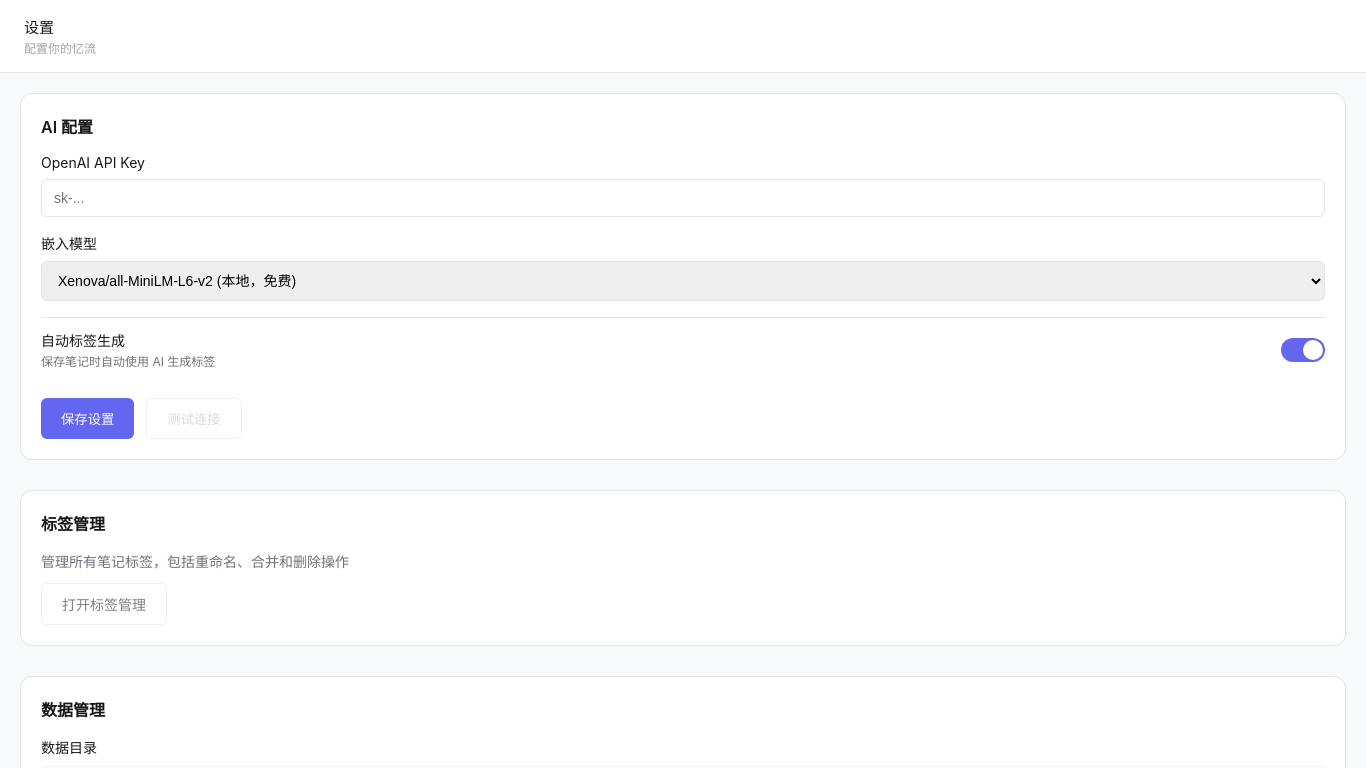
Test: Settings Component › should show saved state after successful save
Click the button "保存设置" at (88, 418), box [41, 398, 134, 439]
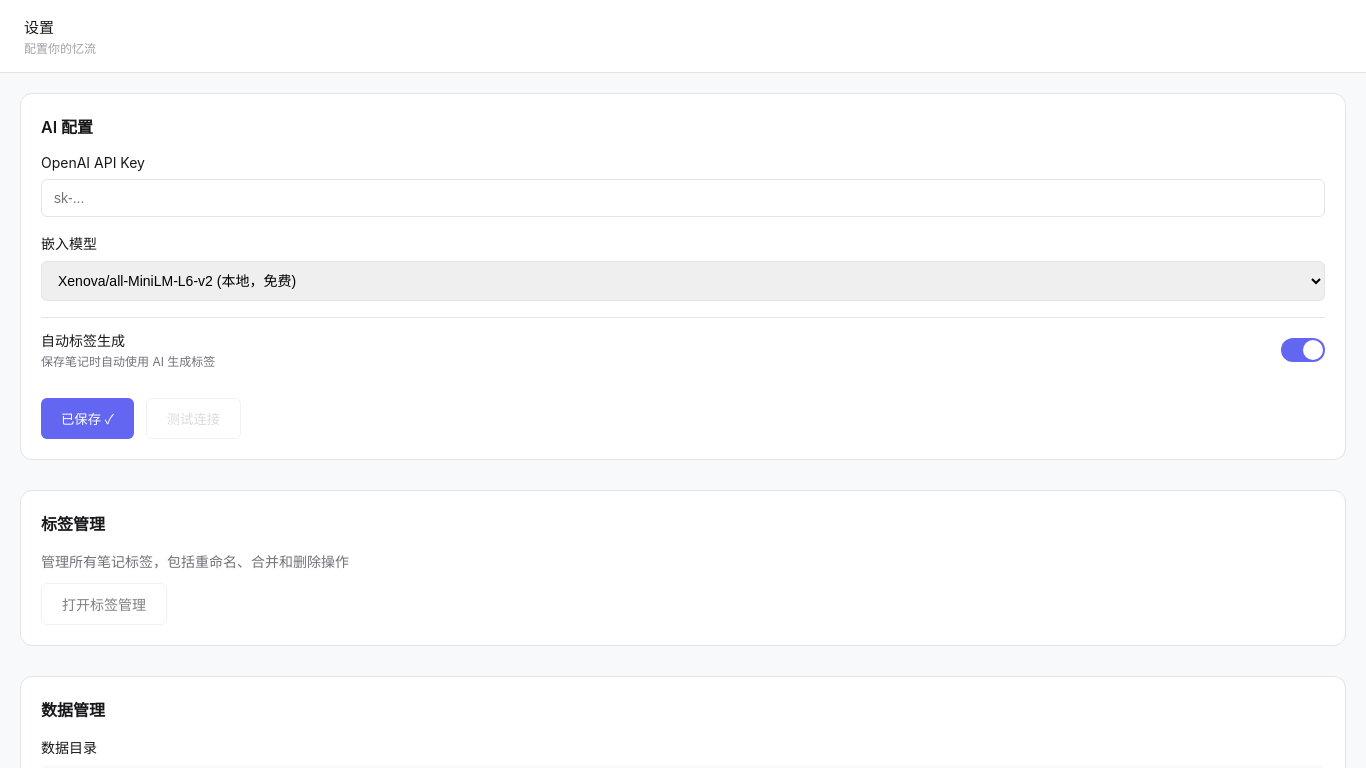
Expected: the button "已保存 ✓" is shown, [41, 398, 134, 439]
